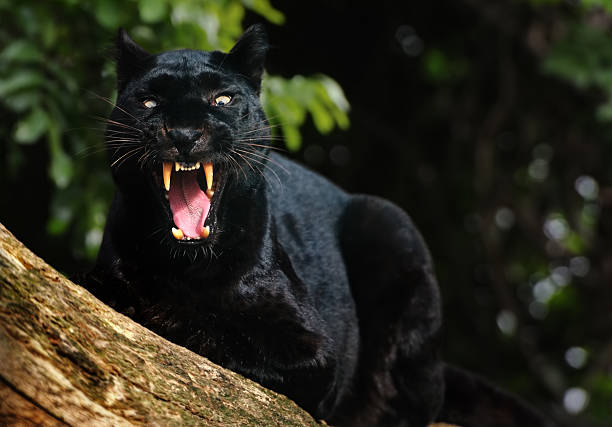panther: (91, 15, 302, 297)
